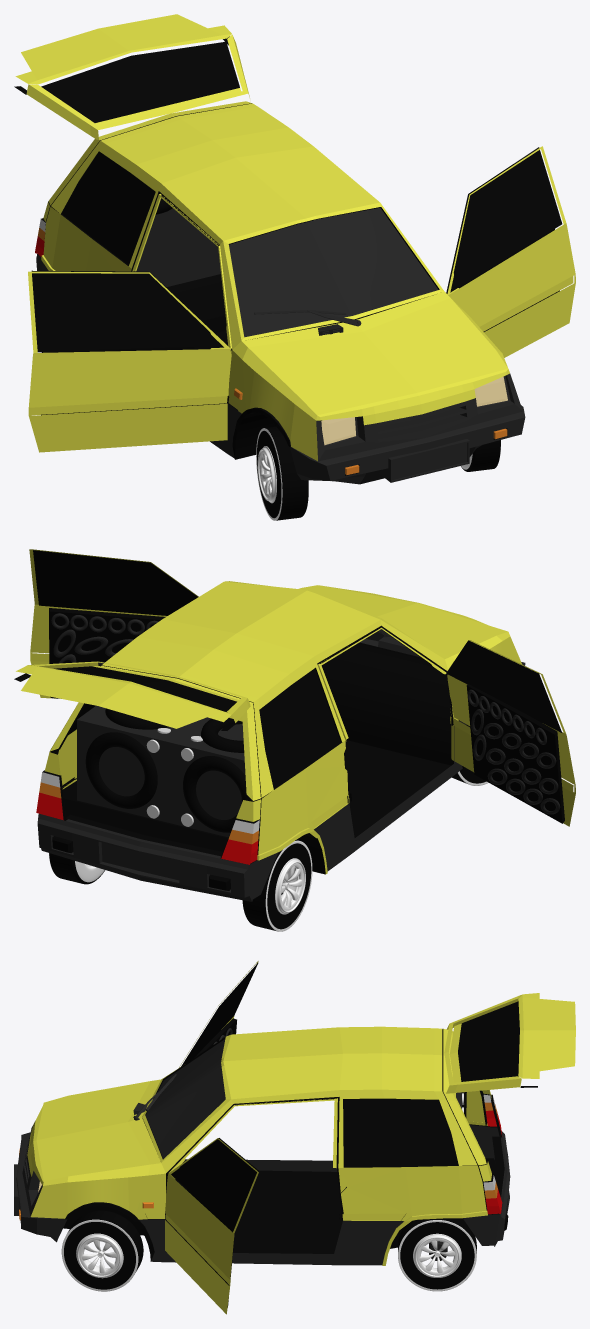
The model's file is hatchCompleto.glb.
The picture shows the model from 3 angles, top to bottom: view 1: azimuth 30°, elevation 25°; view 2: azimuth 150°, elevation 25°; view 3: azimuth 270°, elevation 25°; orthographic projection. The views are drawn at different scales.
Visible parts, largest first — view 1: Плоскость, Плоскость.005, Плоскость.004, Плоскость.002, Цилиндр.000, Cube, Куб, Плоскость.001; view 2: Плоскость, Плоскость.005, Cube, Плоскость.004, Cube.002, Цилиндр.001, Cube.004, Cube.001, Torus, Torus.001, Cube.003, Torus.003 (+1 smaller); view 3: Плоскость, Плоскость.005, Плоскость.004, Цилиндр.000, Плоскость.002, Цилиндр.001, Плоскость.001.
Boxes of the visible parts, x1,y1,x2,y2 form: Плоскость: [35, 101, 525, 484]; Плоскость.005: [28, 146, 575, 452]; Плоскость.004: [14, 14, 249, 139]; Плоскость.002: [229, 208, 438, 337]; Цилиндр.000: [256, 426, 500, 520]; Cube: [135, 208, 220, 287]; Куб: [379, 439, 469, 482]; Плоскость.001: [249, 371, 294, 440]; Плоскость: [36, 581, 525, 901]; Плоскость.005: [29, 549, 575, 826]; Cube: [77, 705, 245, 837]; Плоскость.004: [14, 661, 250, 730]; Cube.002: [466, 684, 564, 823]; Цилиндр.001: [49, 840, 312, 931]; Cube.004: [467, 689, 560, 814]; Cube.001: [49, 608, 165, 698]; Torus: [85, 732, 157, 808]; Torus.001: [183, 756, 252, 832]; Cube.003: [51, 613, 158, 665]; Torus.003: [201, 718, 244, 752]; Плоскость: [16, 1026, 510, 1265]; Плоскость.005: [165, 961, 258, 1314]; Плоскость.004: [444, 993, 575, 1093]; Цилиндр.000: [61, 1210, 143, 1291]; Плоскость.002: [145, 1039, 225, 1158]; Цилиндр.001: [398, 1218, 476, 1291]; Плоскость.001: [67, 1177, 128, 1213].
Size of the model in its own units: 5.82 by 2.61 by 6.13.
